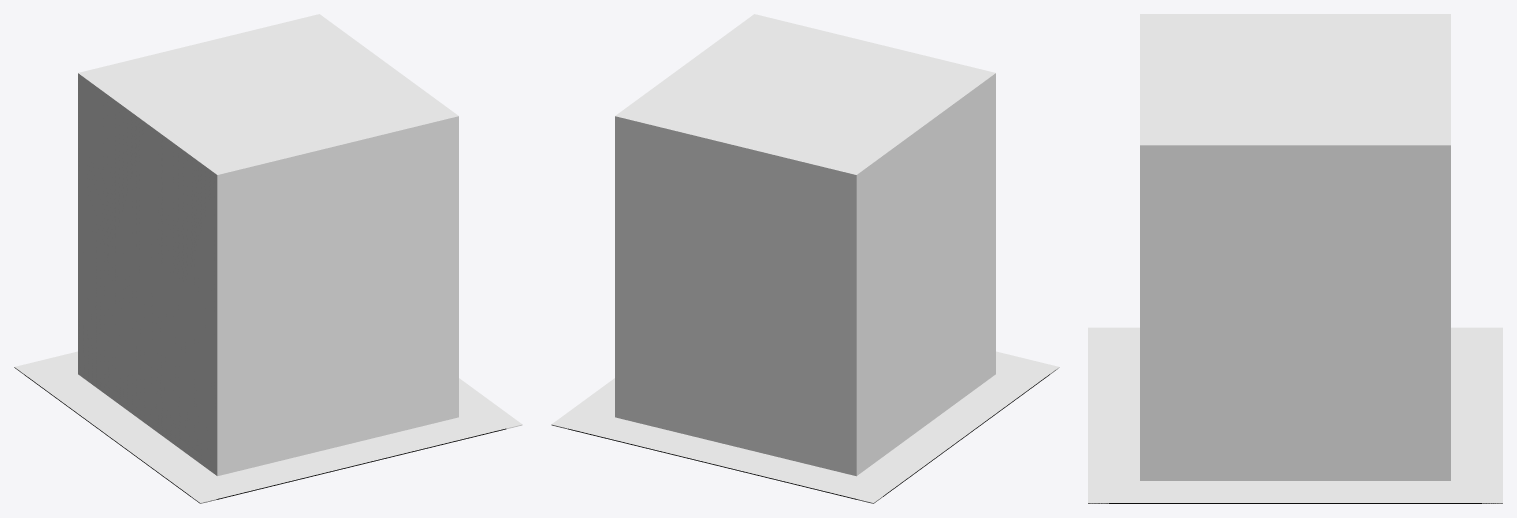
File: RoadMapSet.glb
The picture shows the model from 3 angles, left to right: view 1: azimuth 30°, elevation 25°; view 2: azimuth 150°, elevation 25°; view 3: azimuth 270°, elevation 25°; orthographic projection. The views are drawn at different scales.
Parts seen in each view (by area): view 1: Building 2, Building 1, 15_closed, 4_ENW, 13_W, 12_ES, 10_NS, 6_NE, 2_NSE, 11_S; view 2: Building 2, Building 1, 15_closed, 11_S, 13_W, 3_SE, 5_EW, 1_EWS, 7_W, 12_ES; view 3: Building 2, Building 1, 15_closed, 10_NS, 5_EW, 6_NE, 13_W, 11_S, 7_W, 9_NE, 12_ES, 8_NES.
Part boxes in pixels (<box>): Building 2: <box>78,14,458,475</box>; Building 1: <box>21,206,458,489</box>; 15_closed: <box>21,355,496,491</box>; 4_ENW: <box>29,366,506,501</box>; 13_W: <box>38,355,514,491</box>; 12_ES: <box>50,392,304,492</box>; 10_NS: <box>35,368,522,502</box>; 6_NE: <box>203,408,488,499</box>; 2_NSE: <box>15,363,517,477</box>; 11_S: <box>27,356,506,499</box>; Building 2: <box>615,14,995,474</box>; Building 1: <box>615,206,1042,477</box>; 15_closed: <box>582,363,1044,477</box>; 11_S: <box>561,368,1056,501</box>; 13_W: <box>552,351,1047,503</box>; 3_SE: <box>557,364,1058,498</box>; 5_EW: <box>558,352,1059,502</box>; 1_EWS: <box>556,363,1057,495</box>; 7_W: <box>562,352,1039,498</box>; 12_ES: <box>551,366,1041,497</box>; Building 2: <box>1140,14,1450,480</box>; Building 1: <box>1109,293,1481,494</box>; 15_closed: <box>1109,336,1481,494</box>; 10_NS: <box>1088,327,1502,503</box>; 5_EW: <box>1088,327,1502,503</box>; 6_NE: <box>1088,328,1158,494</box>; 13_W: <box>1095,327,1502,503</box>; 11_S: <box>1089,330,1502,503</box>; 7_W: <box>1088,336,1502,502</box>; 9_NE: <box>1109,328,1502,503</box>; 12_ES: <box>1091,328,1481,503</box>; 8_NES: <box>1088,327,1502,503</box>.
Size of the model in its own units: 4 by 3.58 by 4.
1 material, 1 textured.
